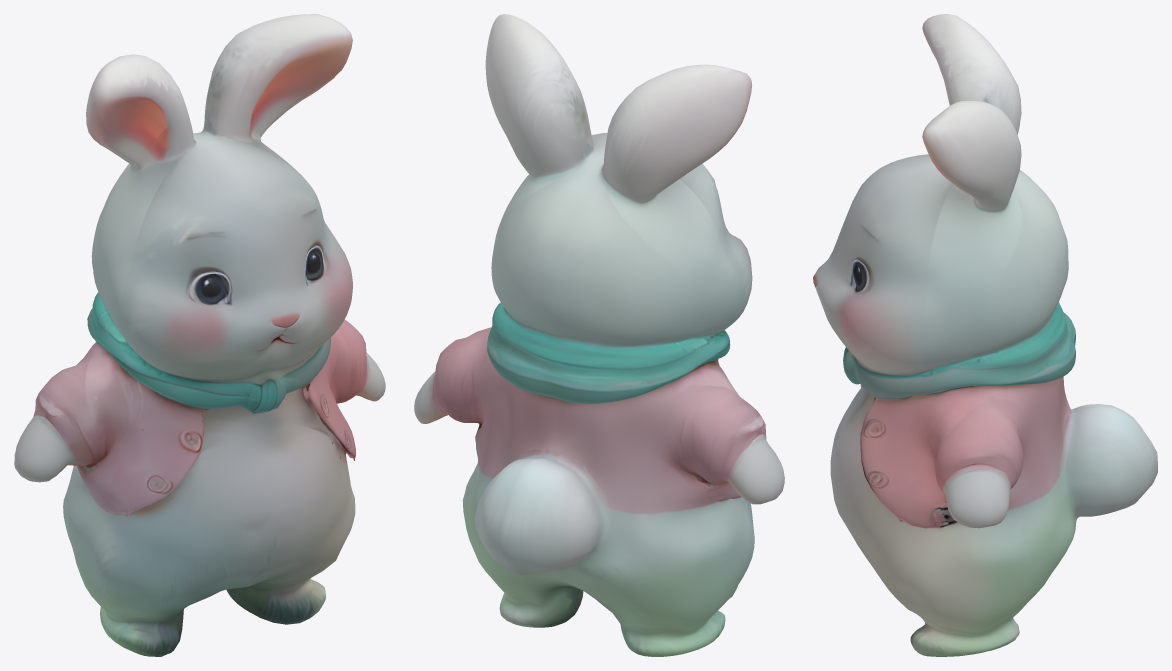
The model's file is rabbit.glb.
3 views of the same model, side by side, from view 1: azimuth 30°, elevation 25°; view 2: azimuth 150°, elevation 25°; view 3: azimuth 270°, elevation 25° (orthographic). The views are drawn at different scales.
Visible parts, largest first — view 1: model; view 2: model; view 3: model.
Part boxes in pixels (<box>): model: <box>14,14,385,656</box>; model: <box>414,14,784,656</box>; model: <box>813,14,1157,656</box>.
Bounding box in the file's own units: 1.22 × 1.9 × 1.06.
Materials: 1 (1 with a texture image).
